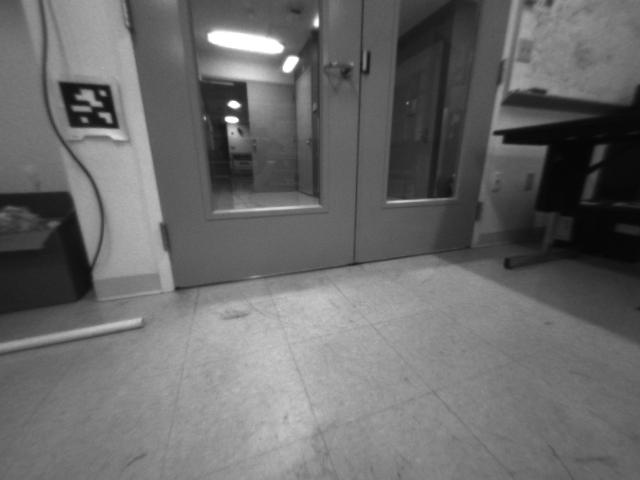door_handle: (320, 55, 355, 80)
